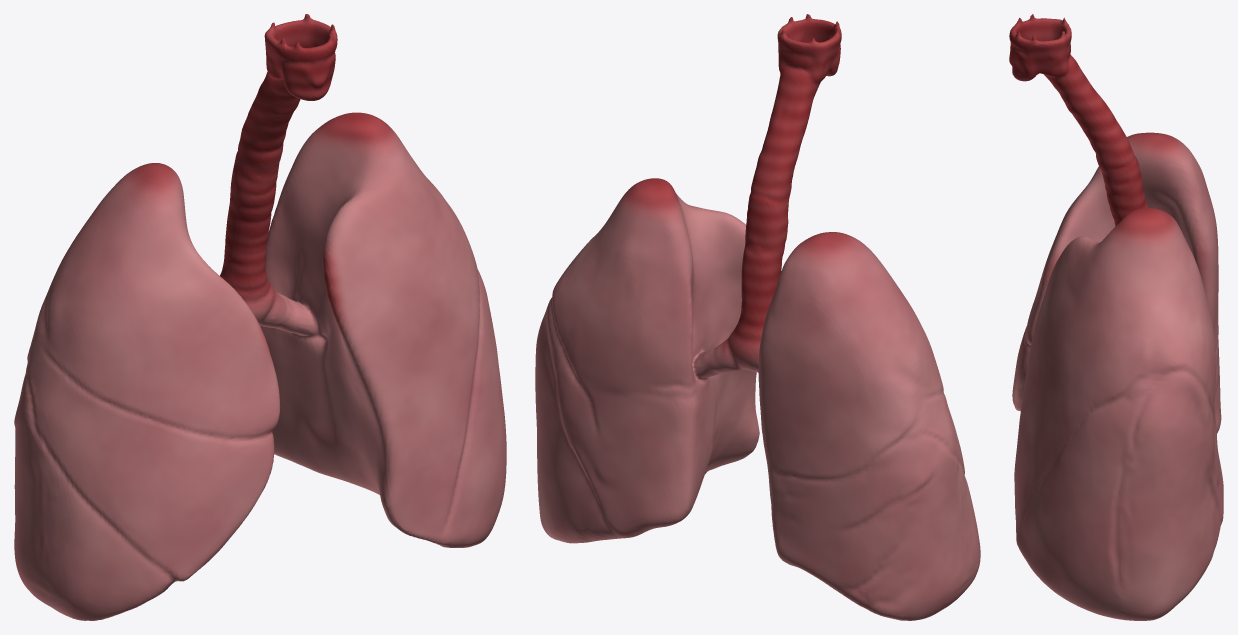
The model's file is lungs-textured.glb.
3 views of the same model, side by side, from view 1: azimuth 30°, elevation 25°; view 2: azimuth 150°, elevation 25°; view 3: azimuth 270°, elevation 25° (orthographic). The views are drawn at different scales.
Parts seen in each view (by area): view 1: Lungs; view 2: Lungs; view 3: Lungs.
Boxes of the visible parts, left/top/right/bottom form: Lungs: left=14, top=14, right=506, bottom=620; Lungs: left=535, top=14, right=980, bottom=620; Lungs: left=1009, top=14, right=1223, bottom=620.
Bounding box in the file's own units: 0.0814 × 0.0983 × 0.038.
